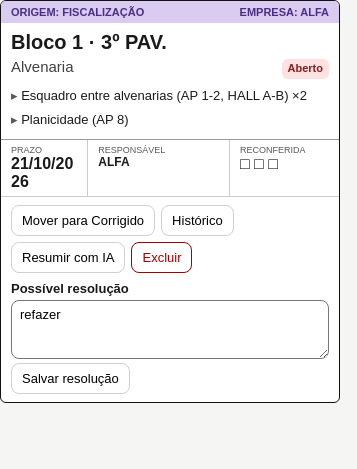
Test: <CartaoPacote/> — kanban e página de cards › o dono escreve a resolução sem precisar informar o nome
Replace the text in the text box labelled "Possível resolução" with "demolir": (170, 330) [11,300,329,359]
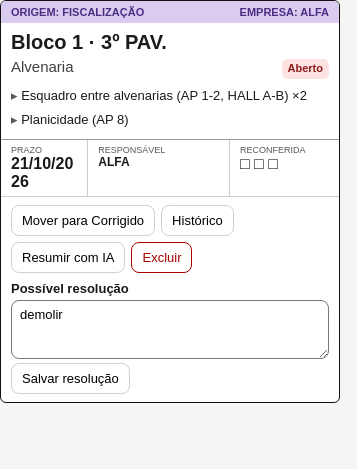
Click the button "Salvar resolução": click(70, 378) [11,363,130,394]
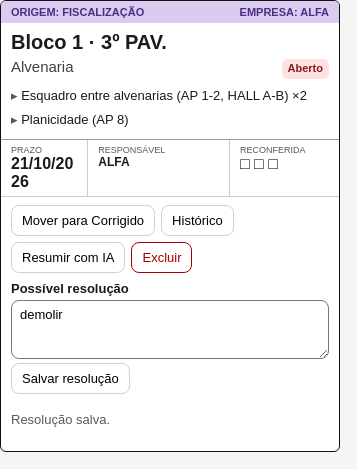
Now the text "Resolução salva." is shown, box [11,411,110,430]
